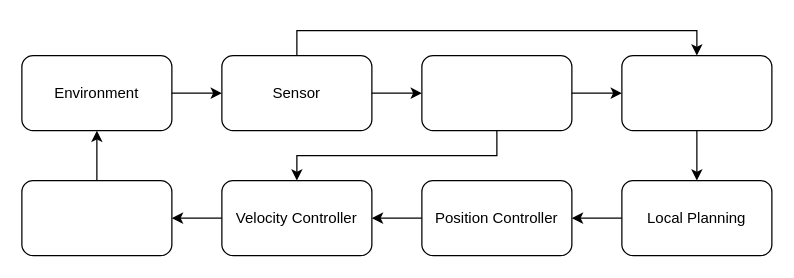
The diagram is 794 pixels wide and 278 high, and some of its shapes have lost their labels. Here are the shapes that lost their labels. From the top down, the centre of each, then its label:
At (496,92): "State (Velocity) Estimation".
At (696,92): "Obstacle Detection".
At (96,217): "Flight Controller and Motors".
